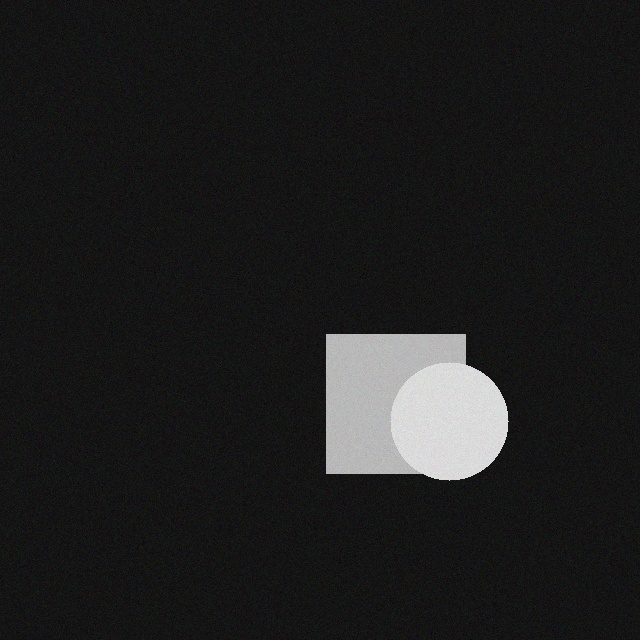circle: (404, 347, 522, 465)
square: (340, 319, 479, 458)
